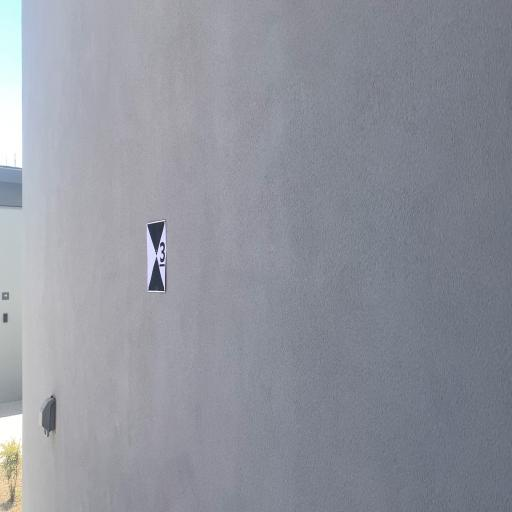target3: (146, 219, 167, 293)
